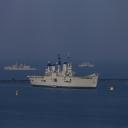Portanaves: (28, 51, 103, 91)
